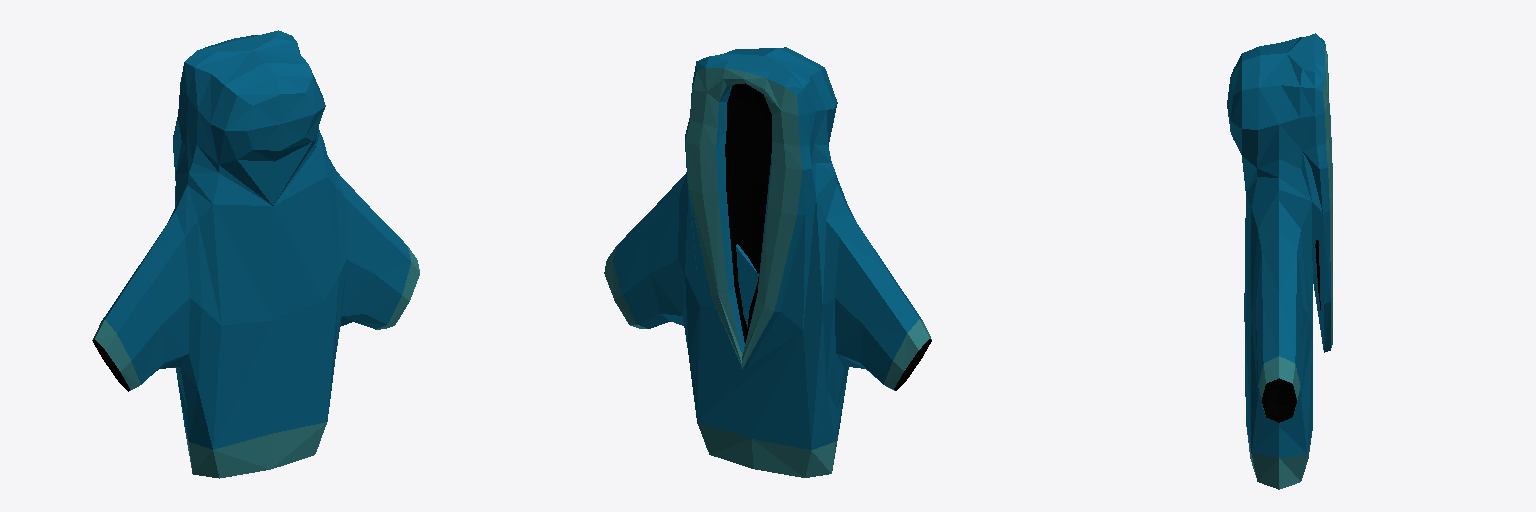
Rendered from PriestCloth.obj.
3 views of the same model, side by side, from view 1: azimuth 30°, elevation 25°; view 2: azimuth 150°, elevation 25°; view 3: azimuth 270°, elevation 25° (orthographic).
Parts seen in each view (by area): view 1: Cube7; view 2: Cube7; view 3: Cube7.
Part boxes in pixels (bbox=[...]): Cube7: bbox=[92, 30, 419, 478]; Cube7: bbox=[604, 47, 931, 477]; Cube7: bbox=[1227, 33, 1332, 489].
Bounding box in the file's own units: 4.69 × 5.63 × 1.34.